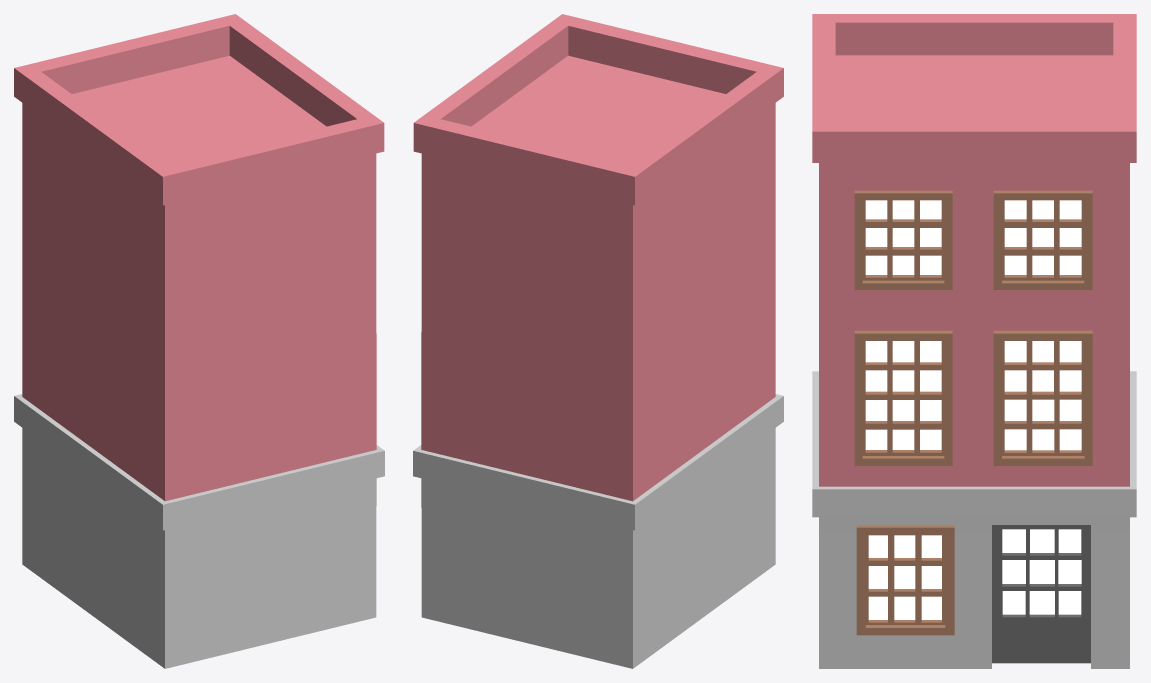
Rendered from House 4.5.fbx.
3 renders of one model, left to right at view 1: azimuth 30°, elevation 25°; view 2: azimuth 150°, elevation 25°; view 3: azimuth 270°, elevation 25°, orthographic. The views are drawn at different scales.
Visible parts, largest first — view 1: House 4.006; view 2: House 4.006; view 3: House 4.006.
Part boxes in pixels (x1=…): House 4.006: x1=14, y1=14, x2=384, y2=668; House 4.006: x1=413, y1=14, x2=783, y2=668; House 4.006: x1=812, y1=14, x2=1136, y2=668.
Size of the model in its own units: 857 by 1829 by 995.
